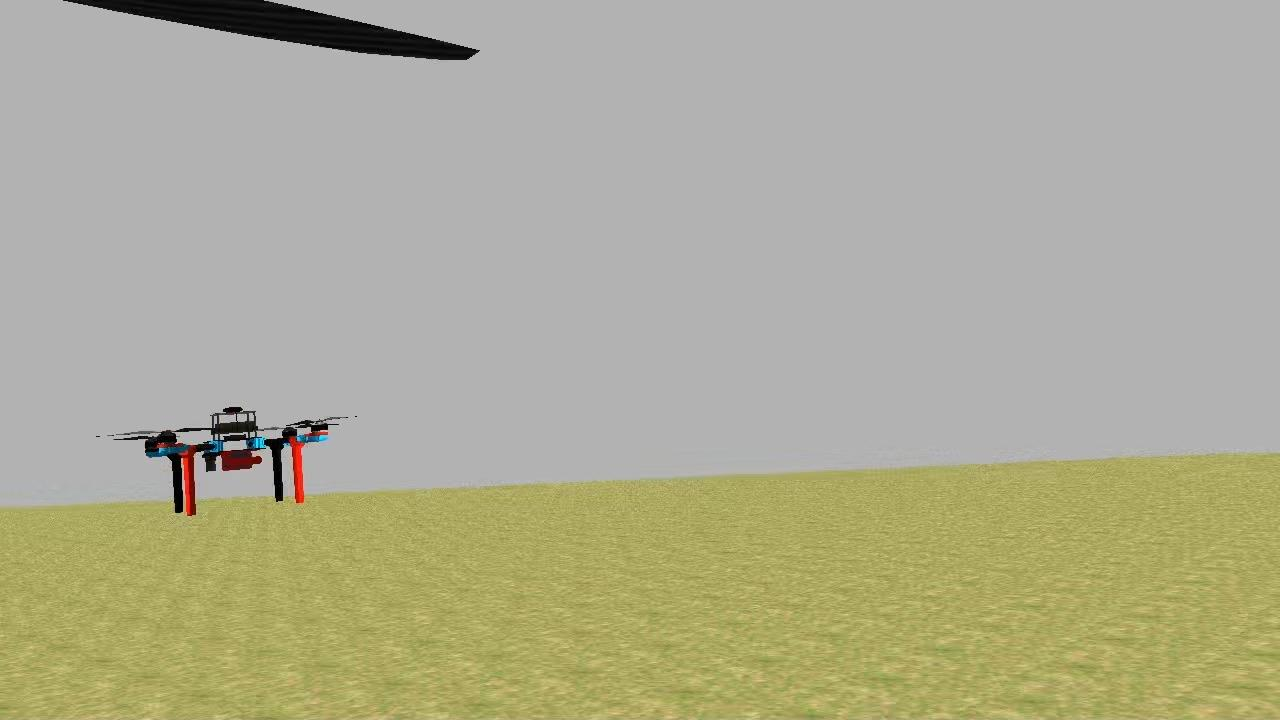UAV: (136, 398, 334, 522)
